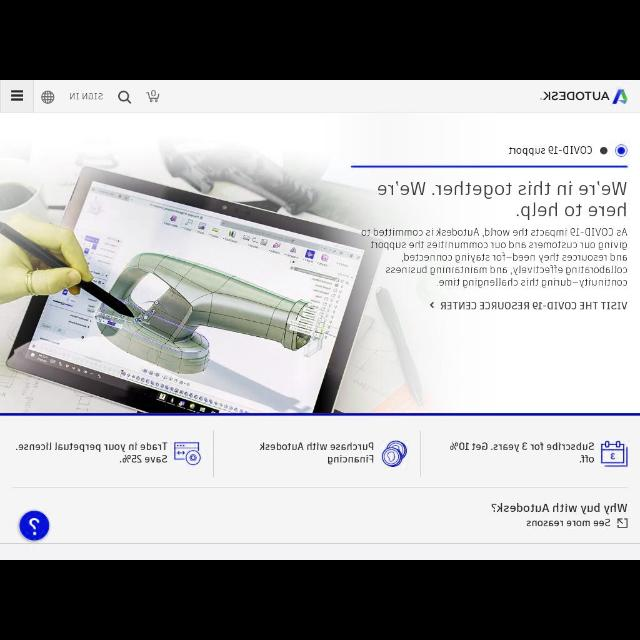backgroundimage: (2, 133, 430, 413)
button: (1, 80, 34, 114)
icon: (118, 90, 132, 106), (40, 90, 56, 104), (146, 90, 160, 102), (10, 89, 24, 101), (616, 518, 628, 528), (599, 146, 607, 156), (430, 302, 434, 310)
image: (18, 511, 50, 542), (600, 442, 628, 468), (381, 440, 407, 468), (173, 442, 200, 466), (612, 88, 628, 105), (614, 144, 628, 158)
text: (360, 227, 628, 289), (378, 181, 628, 221), (14, 442, 168, 464), (450, 442, 594, 464), (258, 442, 374, 464), (440, 301, 628, 311), (492, 503, 628, 513), (508, 146, 592, 156), (526, 518, 610, 528), (542, 91, 610, 101), (68, 92, 104, 100)
toolbar: (0, 80, 638, 114)
